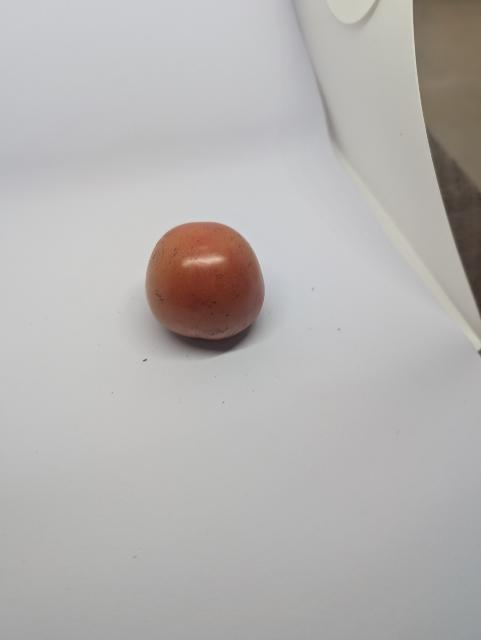red: (136, 214, 286, 349)
